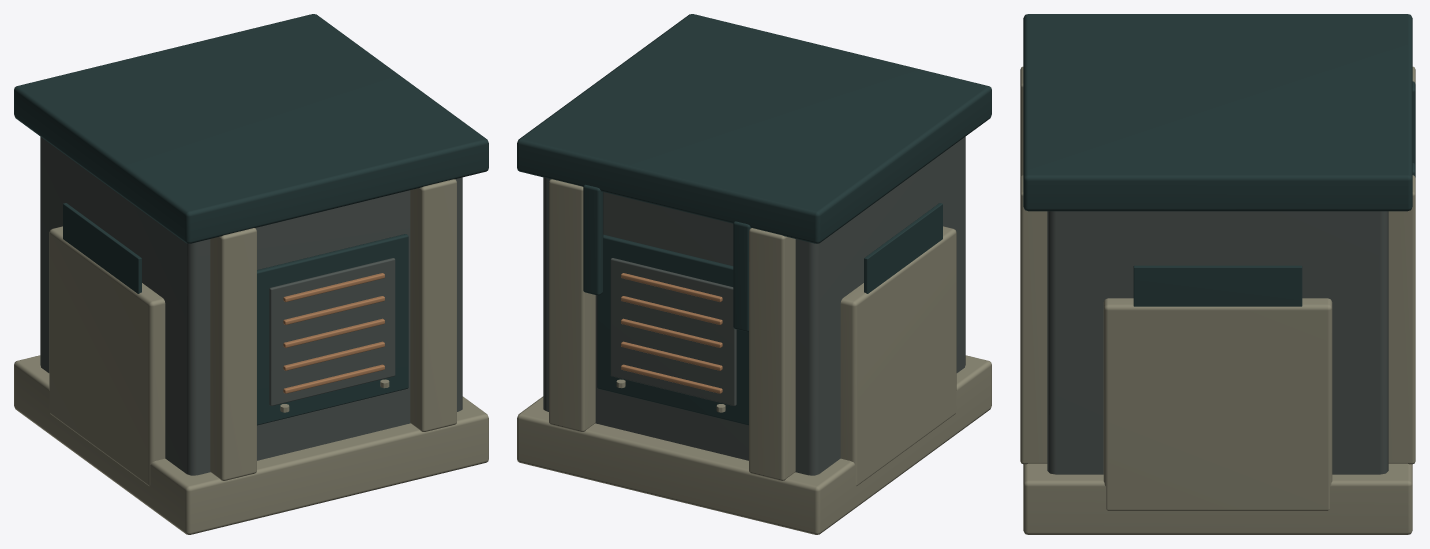
File: outpost-0.glb
3 renders of one model, left to right at view 1: azimuth 30°, elevation 25°; view 2: azimuth 150°, elevation 25°; view 3: azimuth 270°, elevation 25°, orthographic. The views are drawn at different scales.
Parts seen in each view (by area): view 1: outpost_2, outpost_1, outpost_0, outpost_3; view 2: outpost_2, outpost_1, outpost_0, outpost_3; view 3: outpost_2, outpost_1, outpost_0.
Boxes of the visible parts, x1,y1,x2,y2 form: outpost_2: (14,14,488,425); outpost_1: (14,179,488,534); outpost_0: (40,136,462,475); outpost_3: (283,273,384,393); outpost_2: (517,14,991,425); outpost_1: (517,179,991,534); outpost_0: (543,136,965,475); outpost_3: (621,273,722,393); outpost_2: (1023,14,1415,306); outpost_1: (1020,66,1415,534); outpost_0: (1047,211,1388,474).
Bounding box in the file's own units: 0.975 × 0.99 × 0.985.
